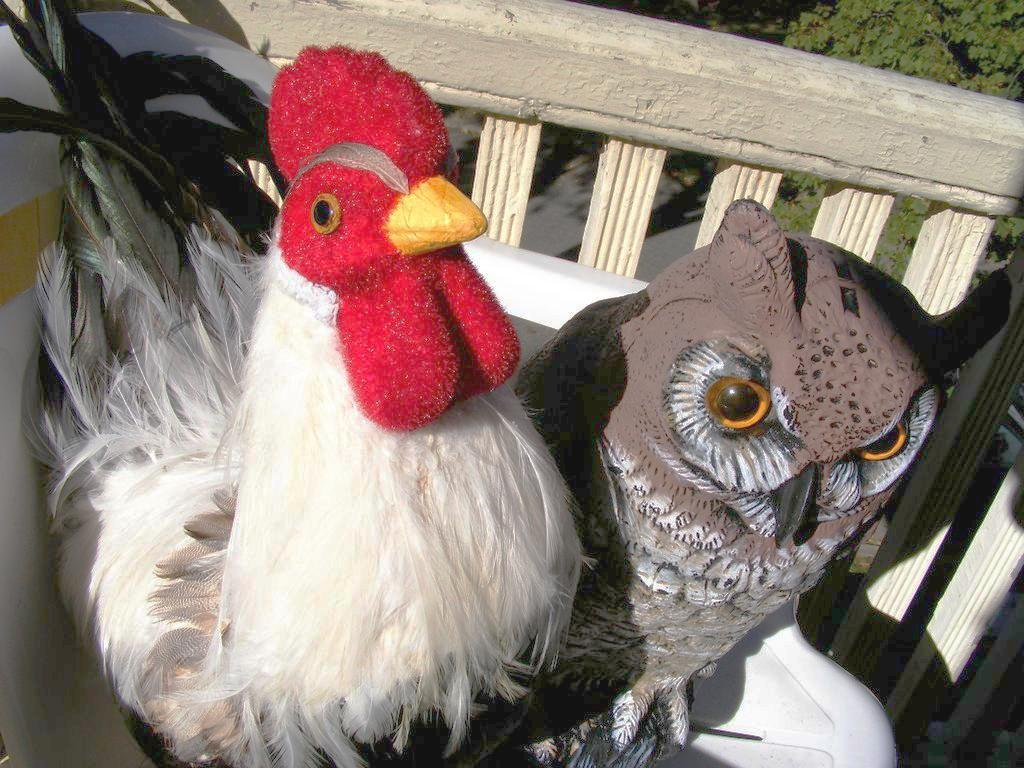Owl: (505, 196, 954, 768)
